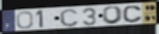1: (35, 9, 46, 29)
3: (82, 7, 97, 26)
C: (59, 8, 80, 28), (122, 5, 144, 24)
O: (102, 5, 125, 25), (16, 11, 35, 30)
